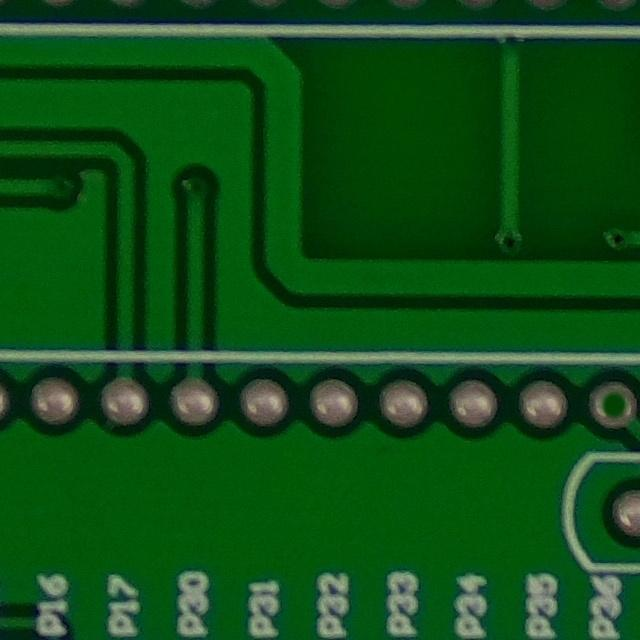missing_hole: (578, 369, 640, 440)
